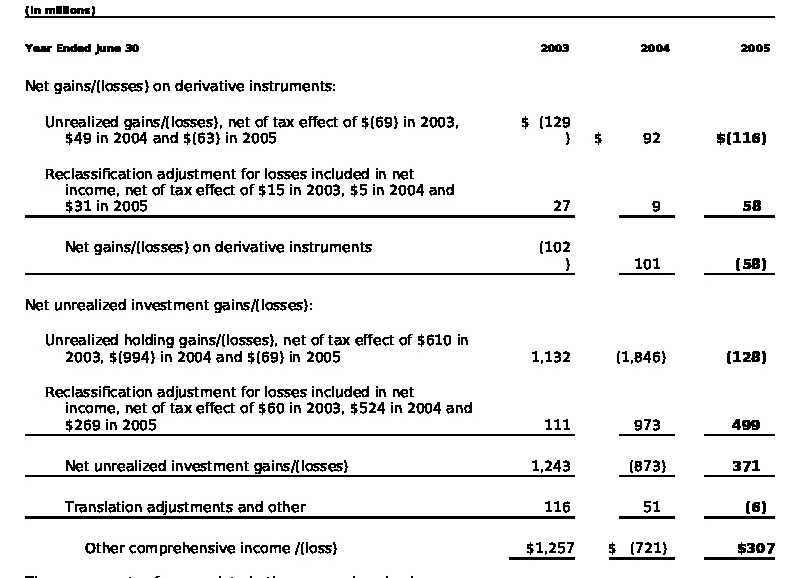table: (0, 0, 796, 578)
